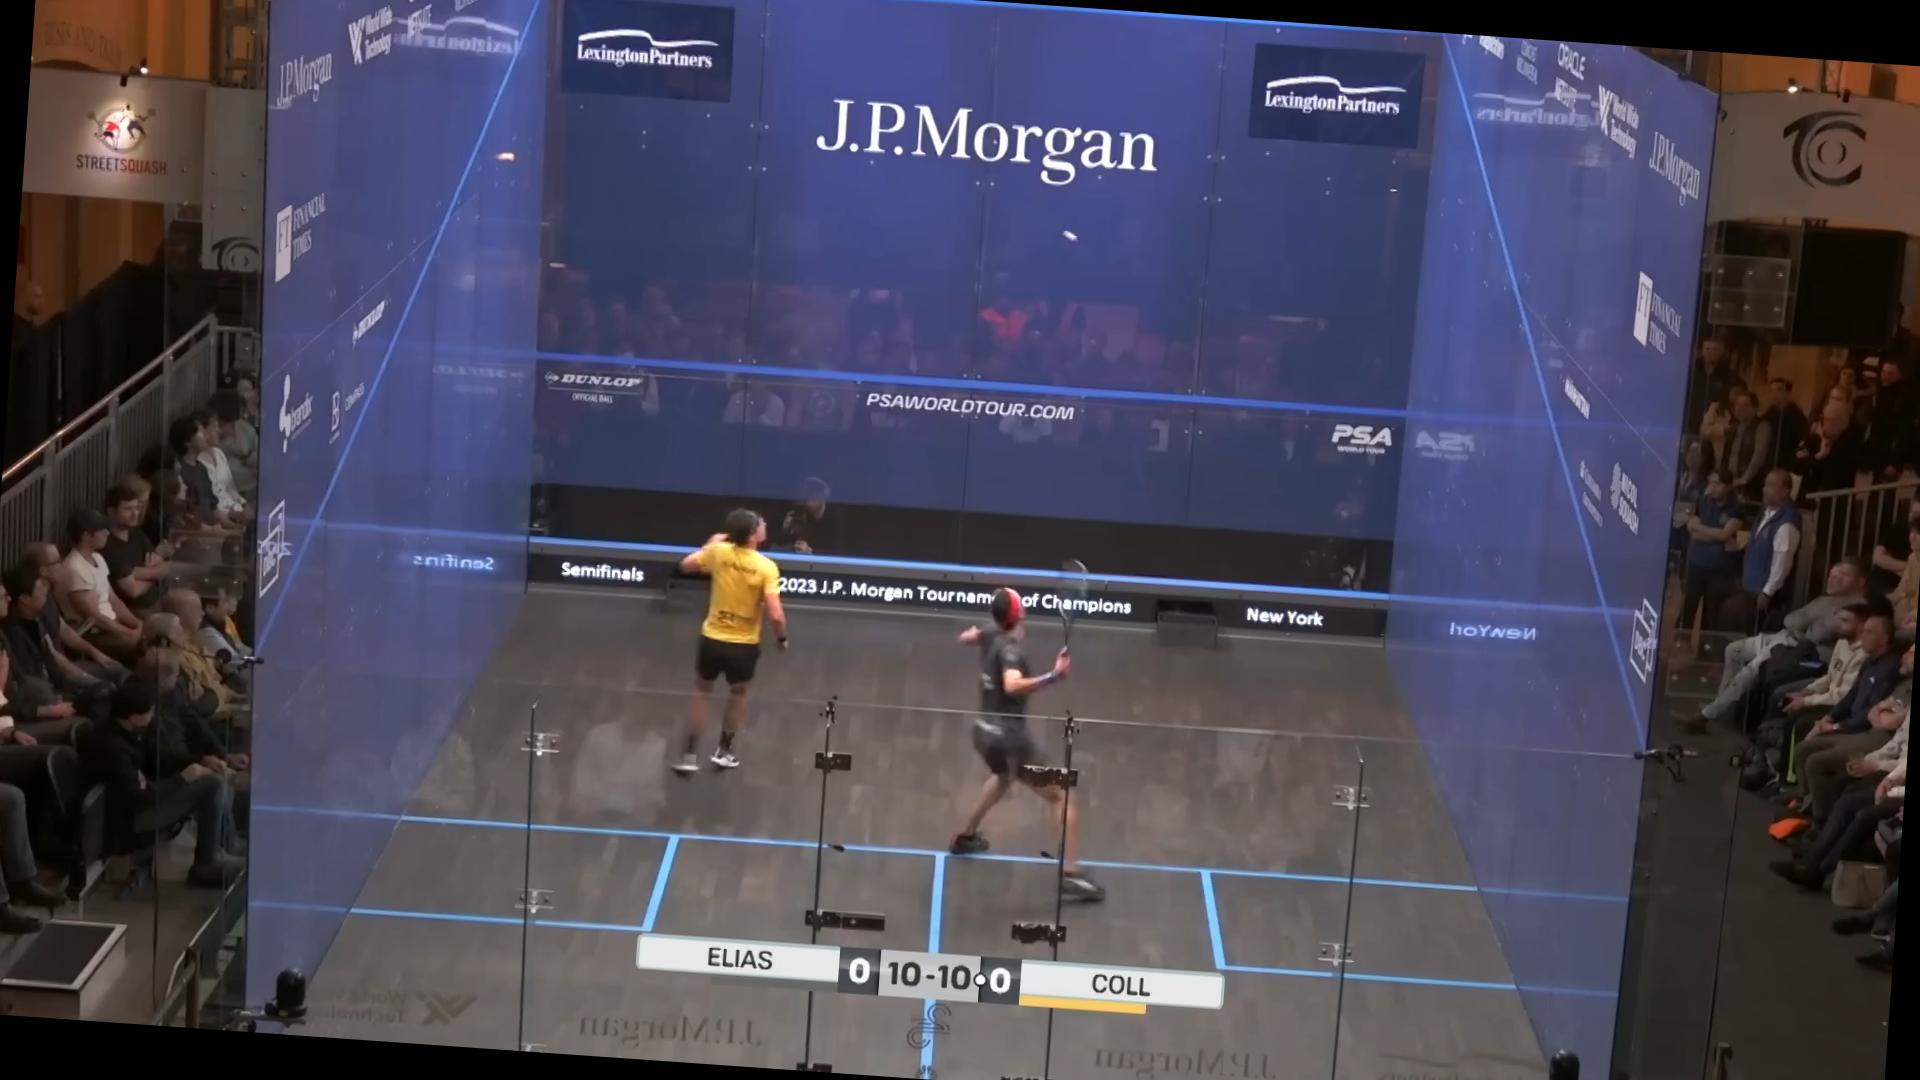Racket: (1044, 545, 1098, 665)
